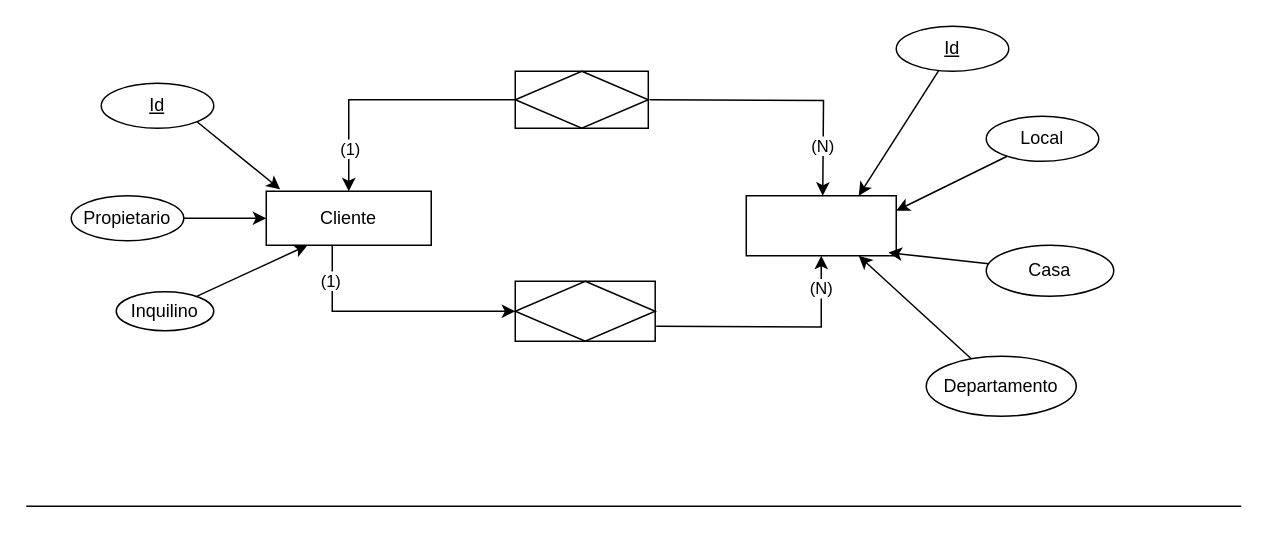
Image size: 1269x534. Some labels were removed from this diagram. Here are the shapes that lost their labels. From the top down, the centre of each, then its label:
pixel 581 99: tiene
pixel 820 225: Inmueble
pixel 584 310: alquila
